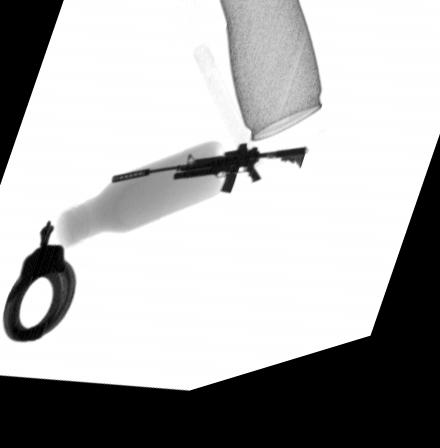Gun: (108, 156, 308, 206)
HandCuffs: (2, 226, 80, 343)
